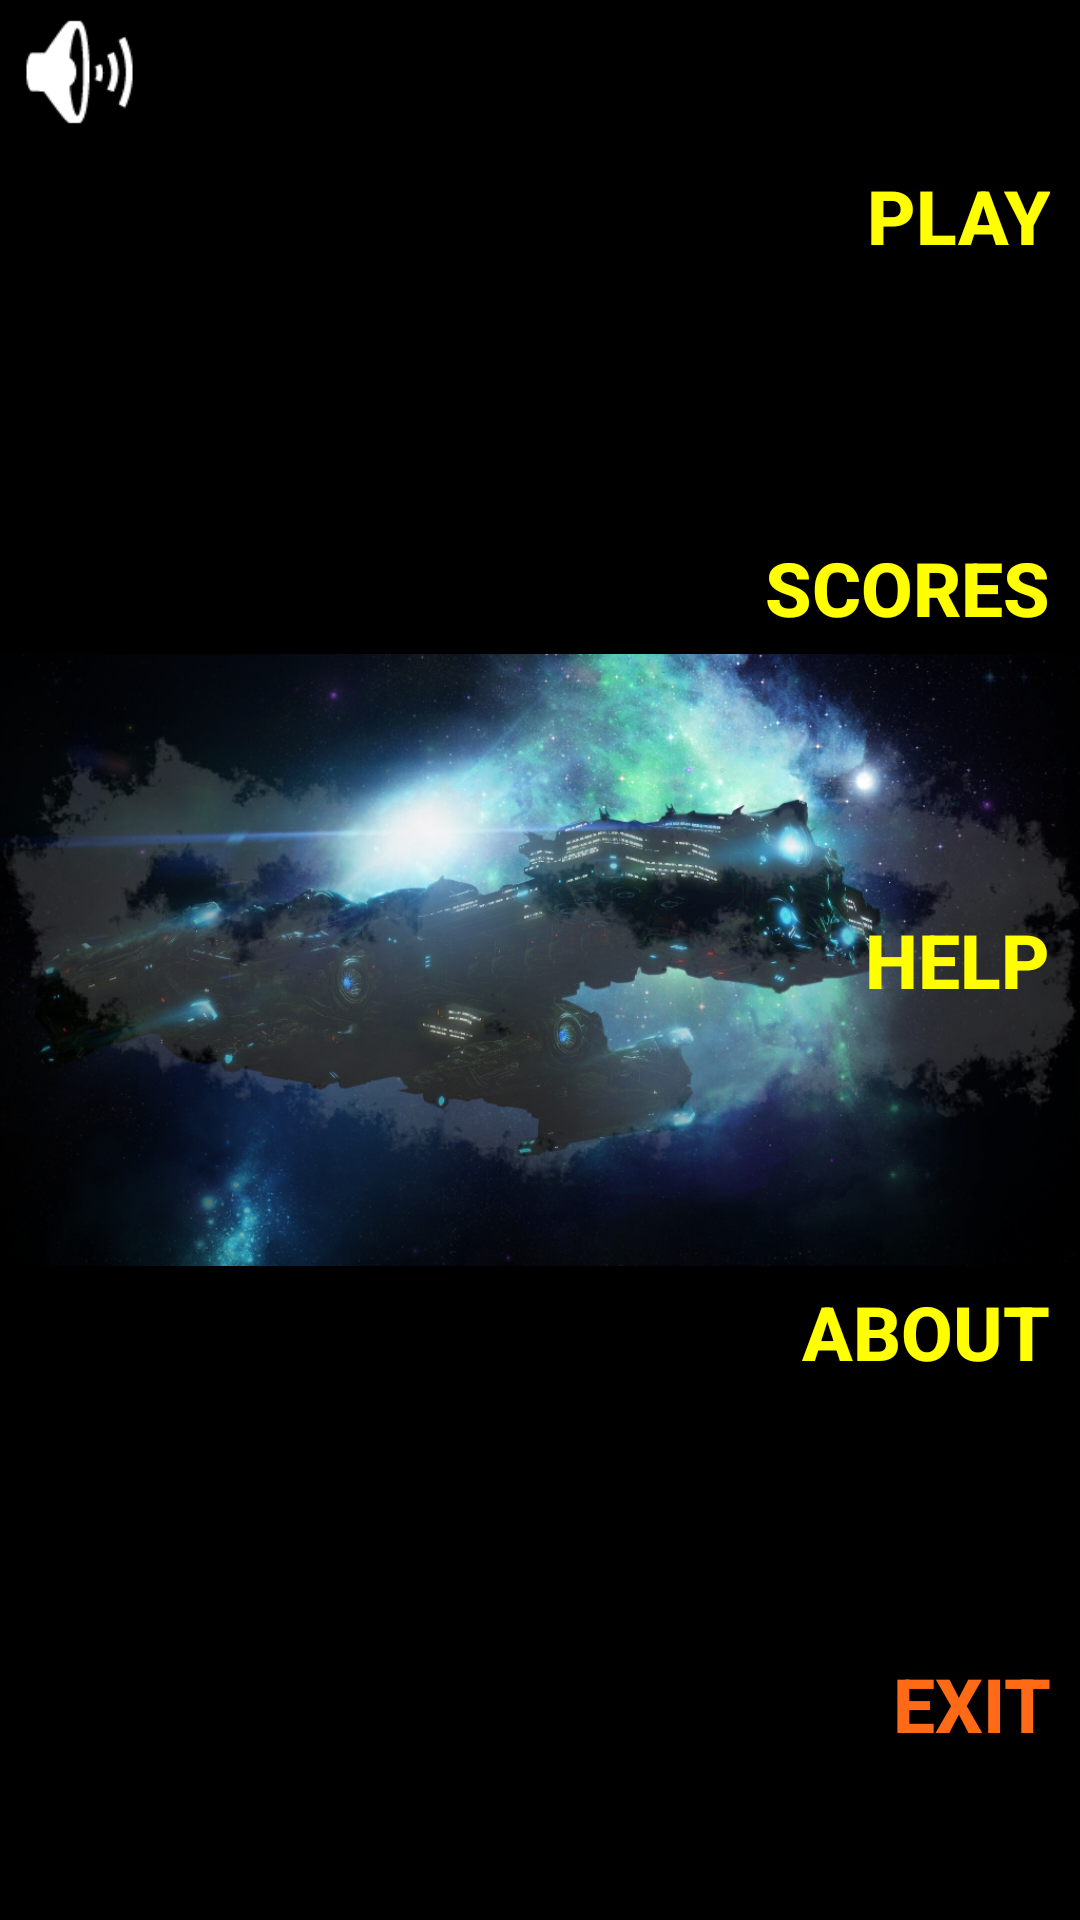

Point at icon controls on the screen. Image size 1080w x 1920h, points as (x,y).
lock silent mode off: (79,72)
